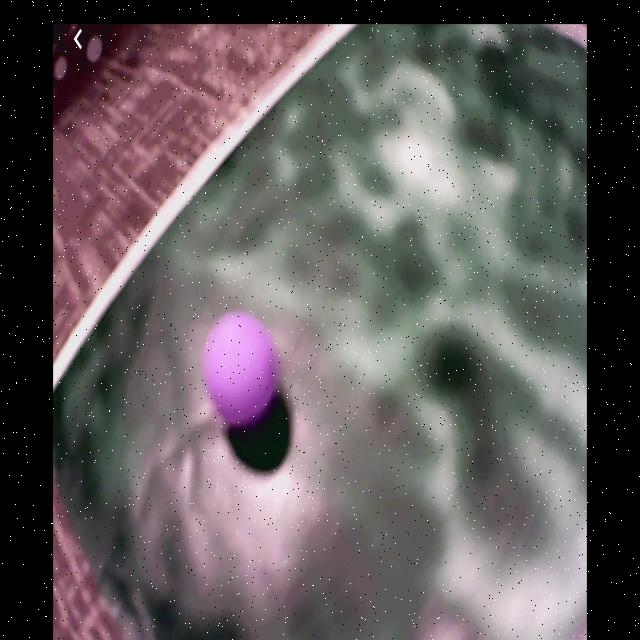ball: (204, 313, 279, 421)
